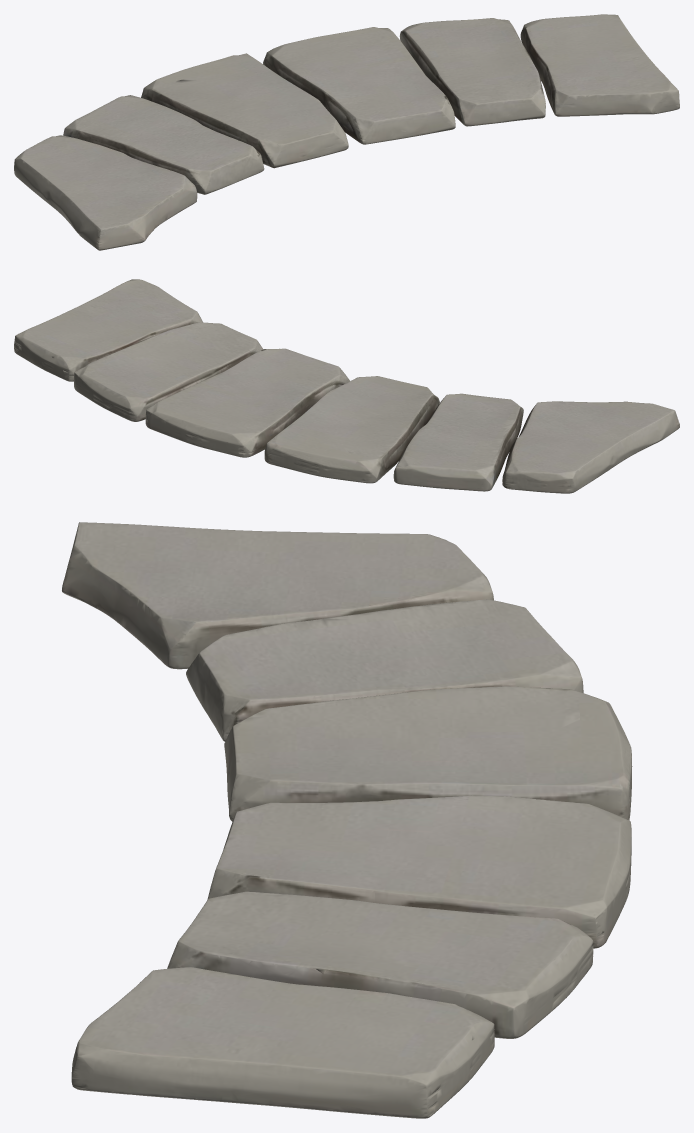
File: stone_path.glb
3 renders of one model, top to bottom at view 1: azimuth 30°, elevation 25°; view 2: azimuth 150°, elevation 25°; view 3: azimuth 270°, elevation 25°, orthographic. The views are drawn at different scales.
Visible parts, largest first — view 1: node_0; view 2: node_0; view 3: node_0.
Part boxes in pixels (x1,y1,x2,y2): node_0: [14, 14, 679, 250]; node_0: [14, 279, 679, 493]; node_0: [62, 522, 632, 1118].
Size of the model in its own units: 1.11 by 0.0424 by 0.4745.
Materials: 1 (1 with a texture image).
